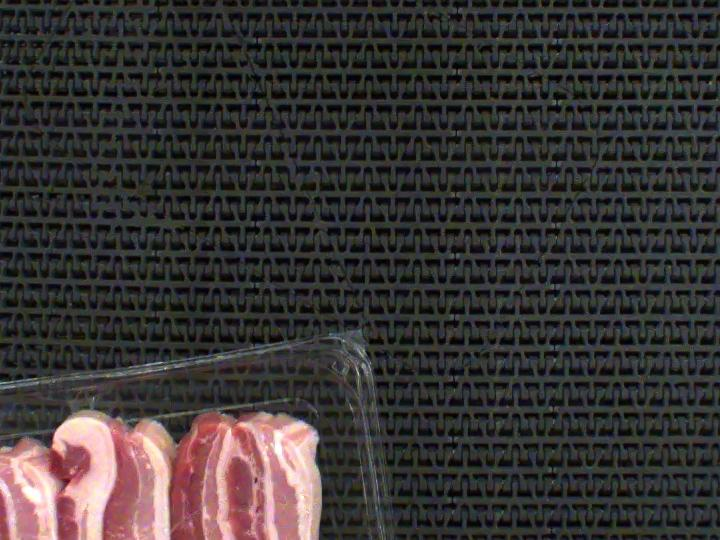packaging-error: (59, 398, 104, 418)
